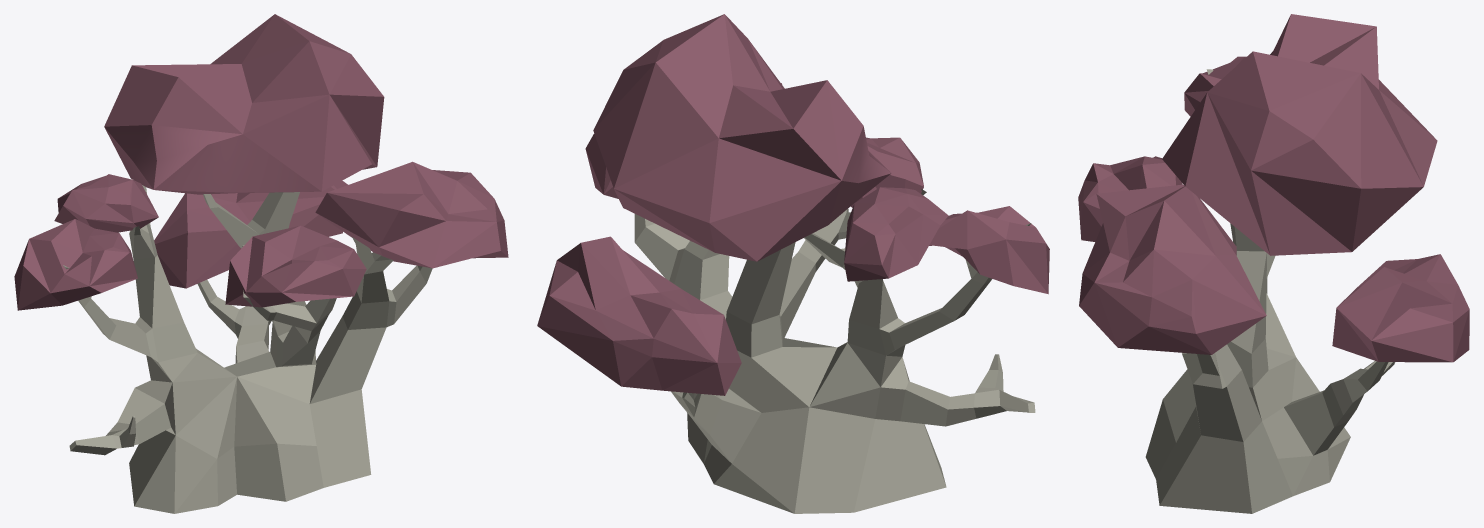
File: fbOldTree.fbx
3 renders of one model, left to right at view 1: azimuth 30°, elevation 25°; view 2: azimuth 150°, elevation 25°; view 3: azimuth 270°, elevation 25°, orthographic. The views are drawn at different scales.
Parts seen in each view (by area): view 1: group87, pCube242; view 2: group87, pCube242; view 3: group87, pCube242.
Part boxes in pixels (x1,y1,x2,y2): group87: (14, 14, 508, 310); pCube242: (63, 185, 432, 513); group87: (537, 14, 1049, 395); pCube242: (634, 189, 1035, 513); group87: (1078, 14, 1469, 362); pCube242: (1145, 69, 1395, 513).
Bounding box in the file's own units: 574 × 493 × 394.
